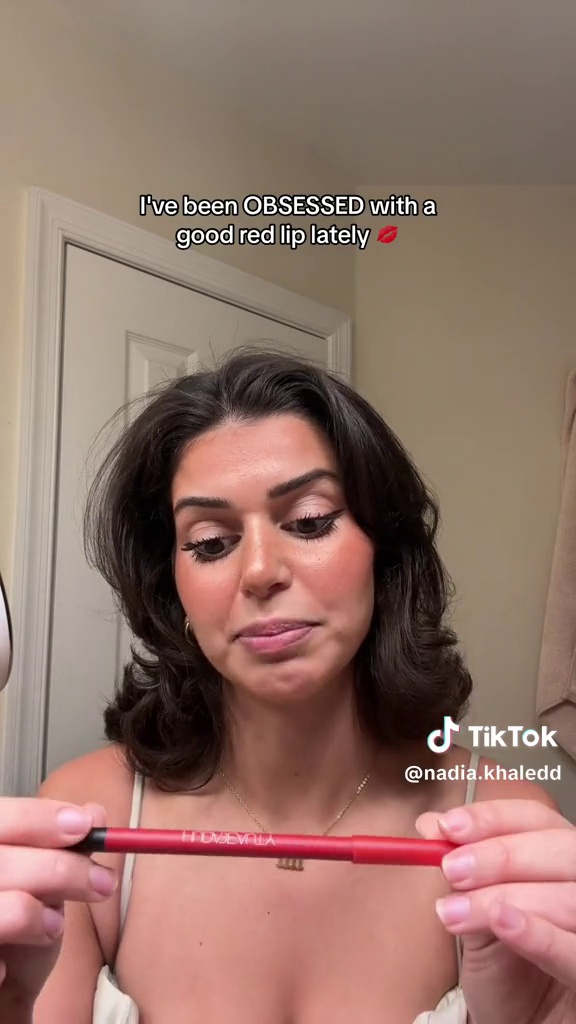train' :'yolo_data/train/images',: (33, 805, 464, 883)
